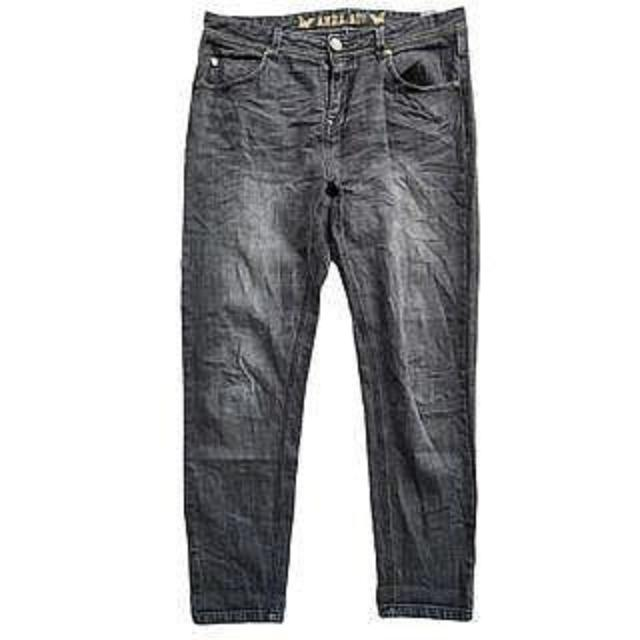TROUSER: (153, 2, 516, 630)
